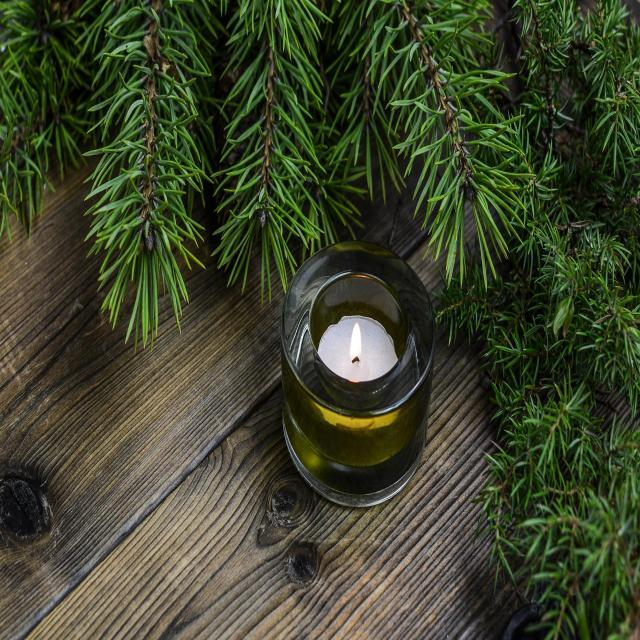Fire_Save: (279, 239, 436, 507)
